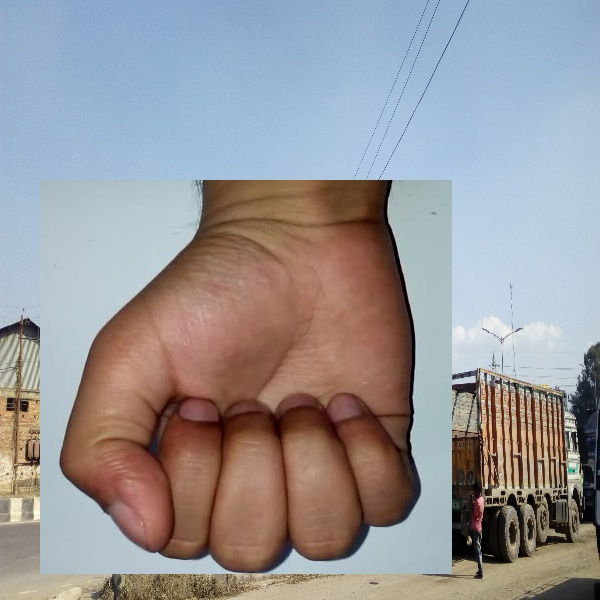A: (40, 180, 452, 574)
